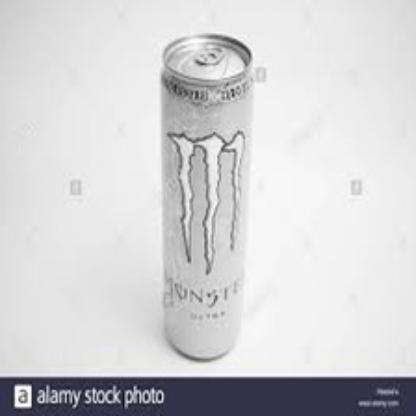Can: (160, 34, 254, 362)
